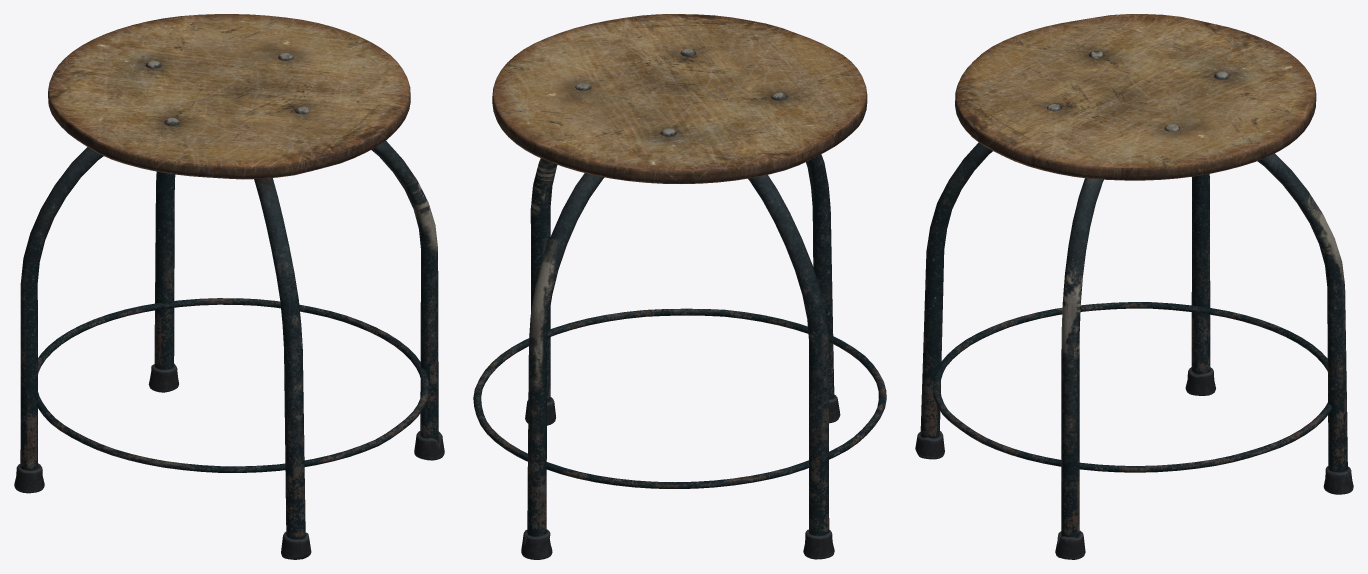
The model's file is metal_stool_02_1k.gltf.
3 views of the same model, side by side, from view 1: azimuth 30°, elevation 25°; view 2: azimuth 150°, elevation 25°; view 3: azimuth 270°, elevation 25° (orthographic). The views are drawn at different scales.
Visible parts, largest first — view 1: metal_stool_02; view 2: metal_stool_02; view 3: metal_stool_02.
Part boxes in pixels (x1,y1,x2,y2): metal_stool_02: (14, 14, 444, 559); metal_stool_02: (473, 14, 886, 559); metal_stool_02: (915, 14, 1353, 559).
Size of the model in its own units: 0.4481 by 0.4581 by 0.4731.
1 material, 1 textured.
